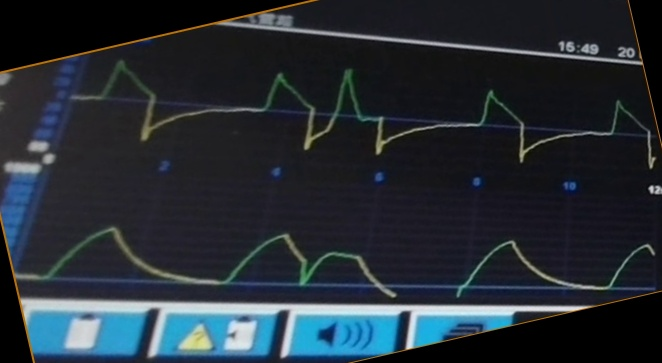Double_Triggering Flow: (99, 60, 592, 164)
Double_Triggering Volume: (50, 210, 647, 294)
